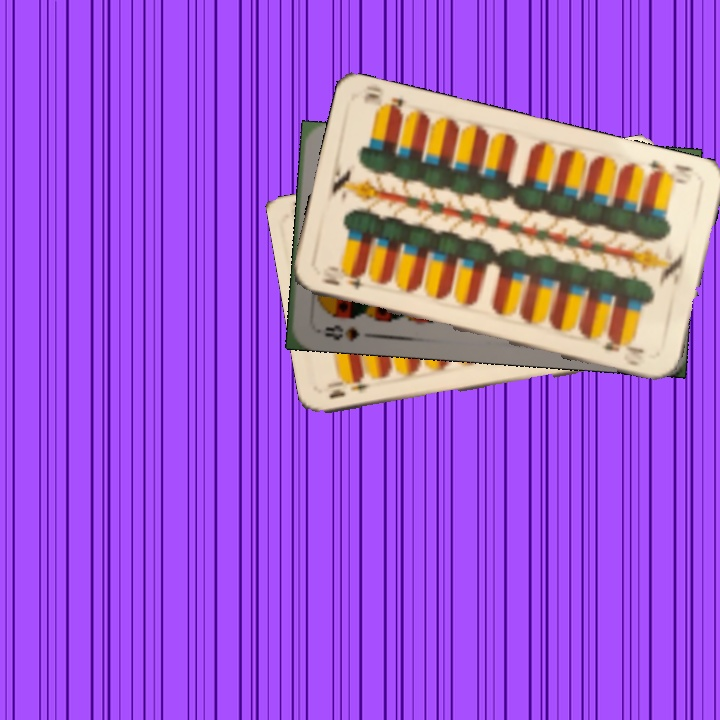E10: (643, 155, 696, 187), (316, 268, 374, 292), (324, 378, 373, 401)
S8: (321, 321, 362, 344)
